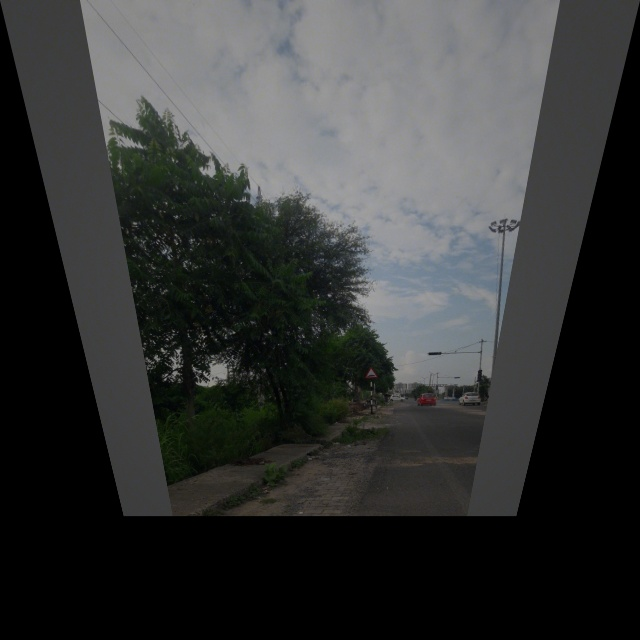Hump_or_Rough_Road: (361, 361, 380, 382)
